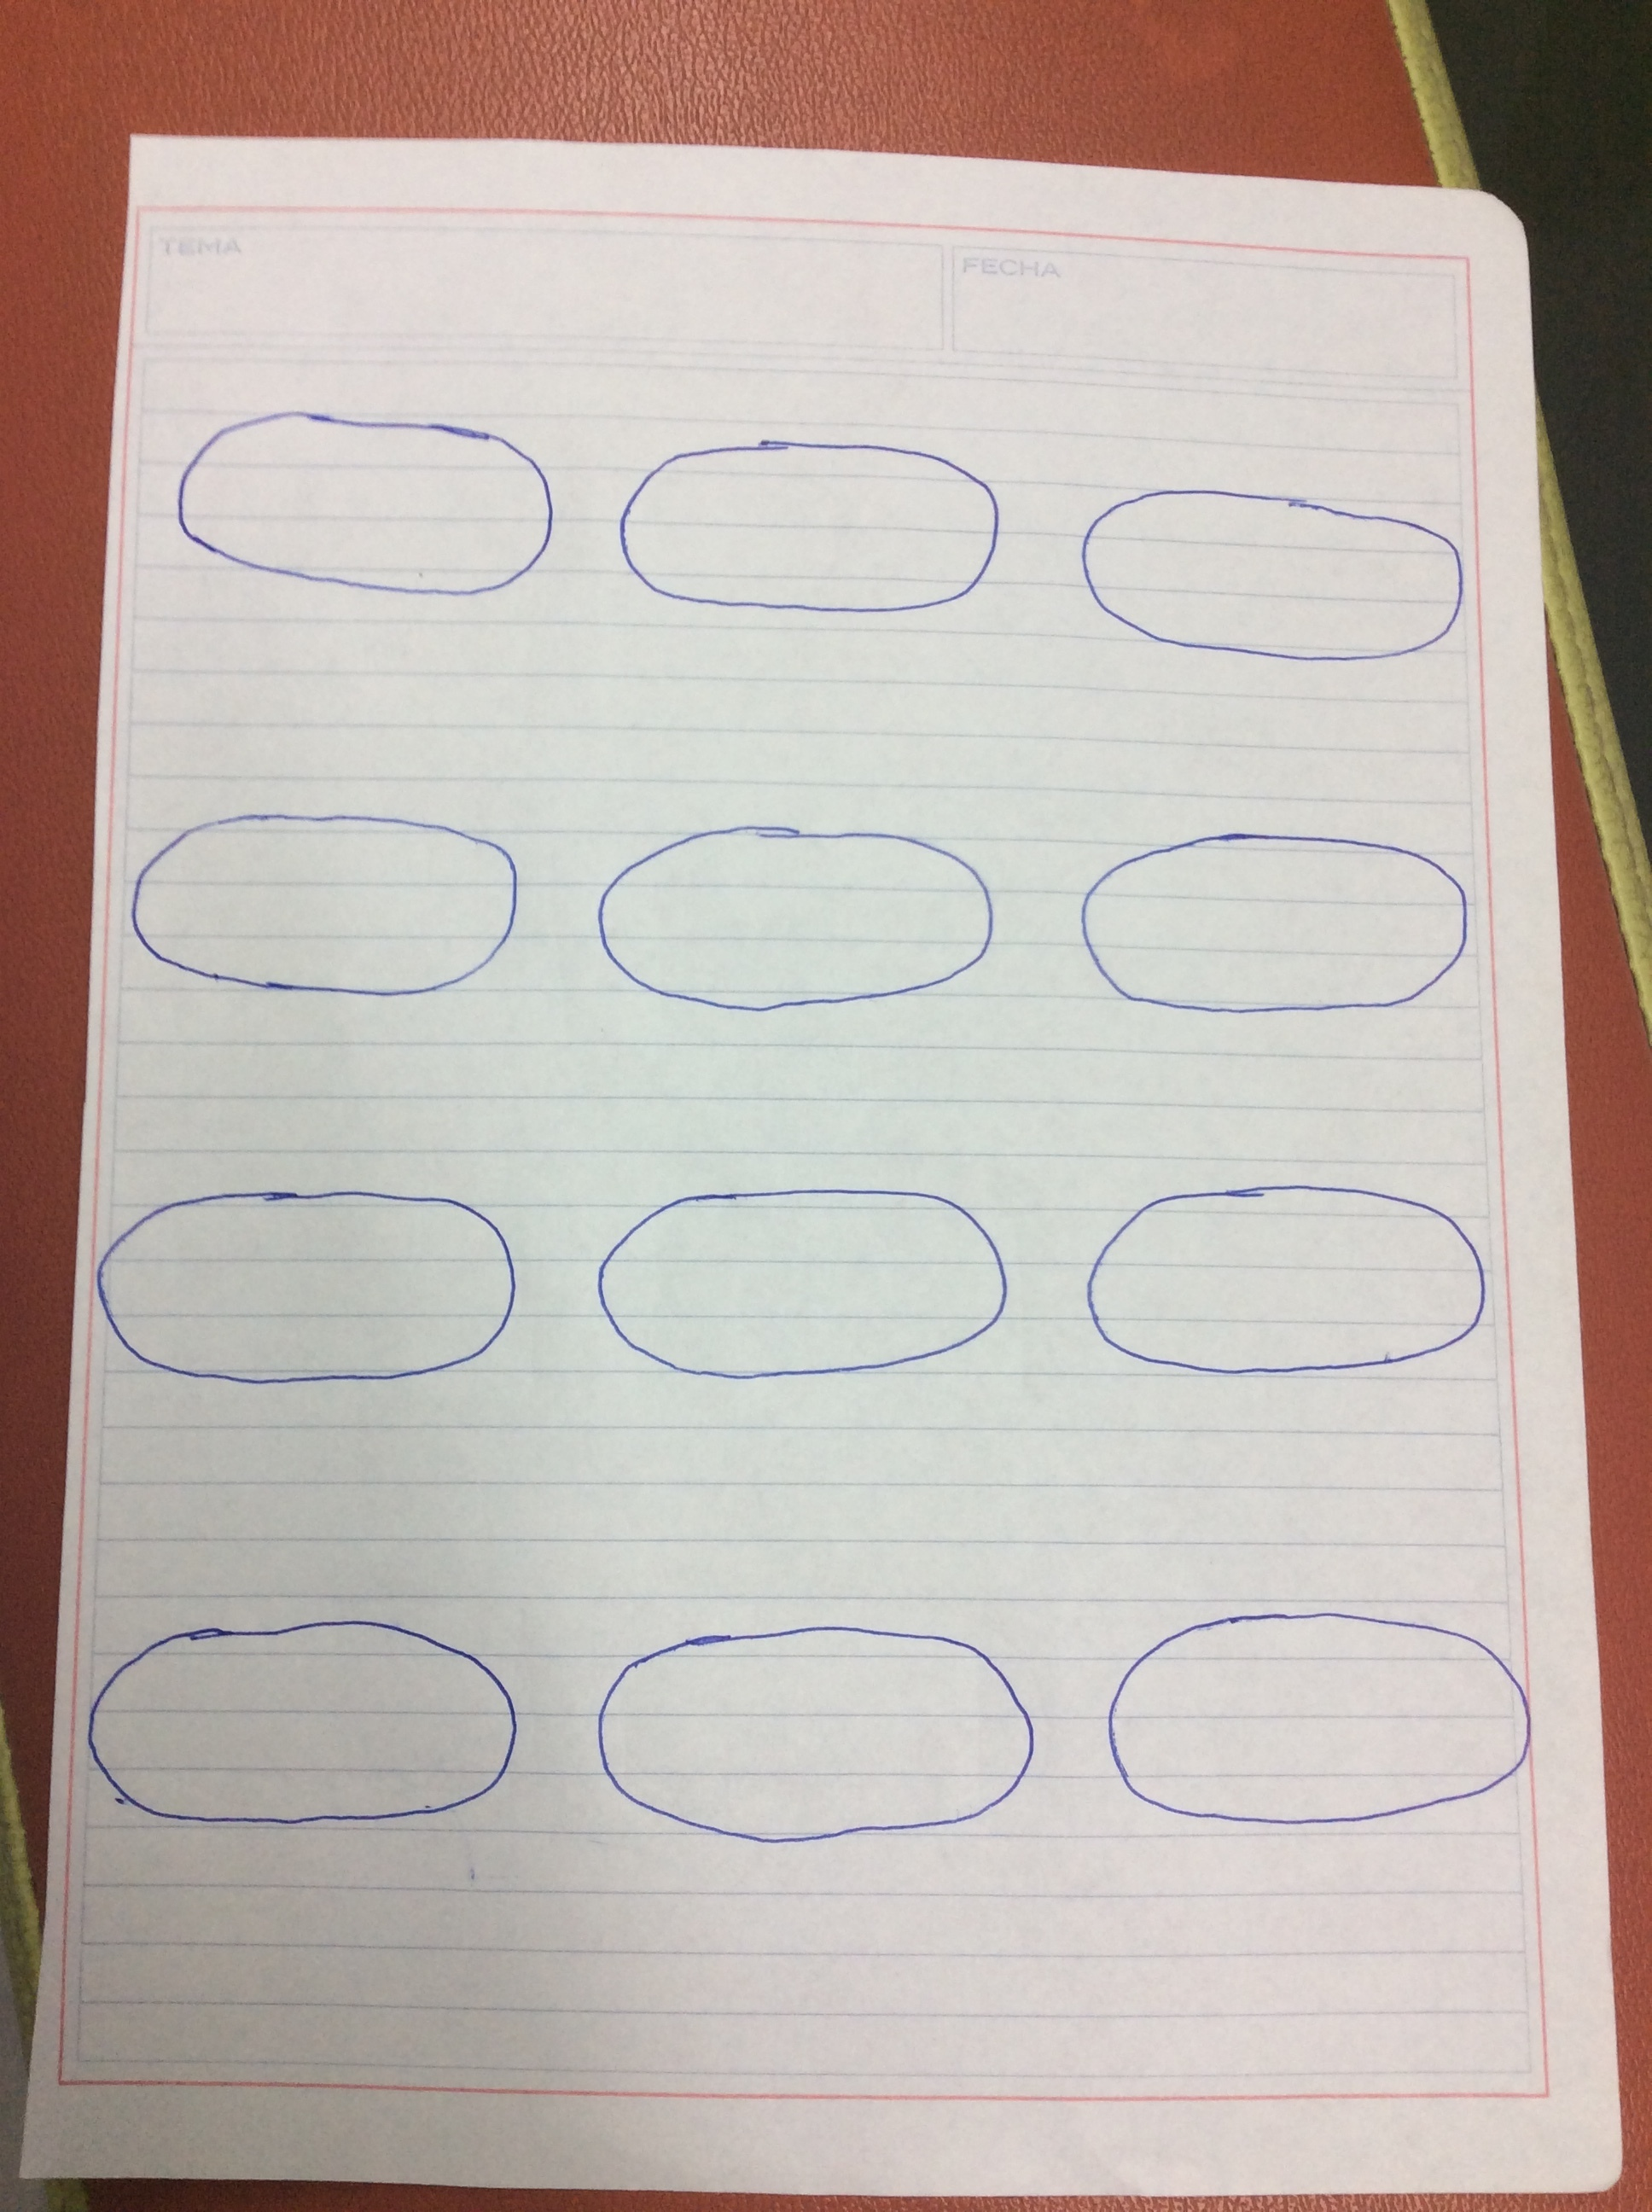start_end: (1081, 1587, 1544, 1870), (571, 1594, 1050, 1860), (76, 1594, 531, 1856), (574, 782, 1008, 1041), (94, 1164, 534, 1407), (125, 765, 545, 1017), (1053, 437, 1477, 685), (602, 399, 1026, 645), (1064, 1161, 1503, 1393), (574, 1168, 1019, 1397), (1057, 805, 1487, 1037), (158, 378, 566, 621)
